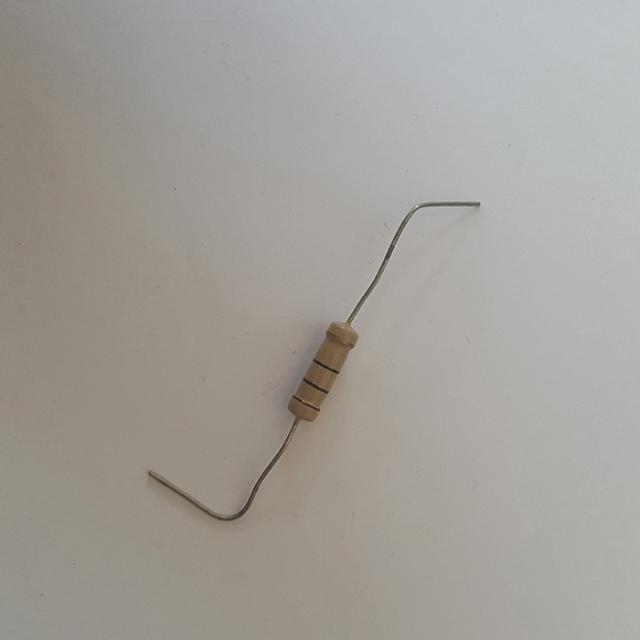black: (313, 357, 339, 373), (302, 378, 328, 394)
brown: (292, 395, 320, 411)
gold: (325, 331, 352, 347)
resistor: (272, 307, 377, 438)
